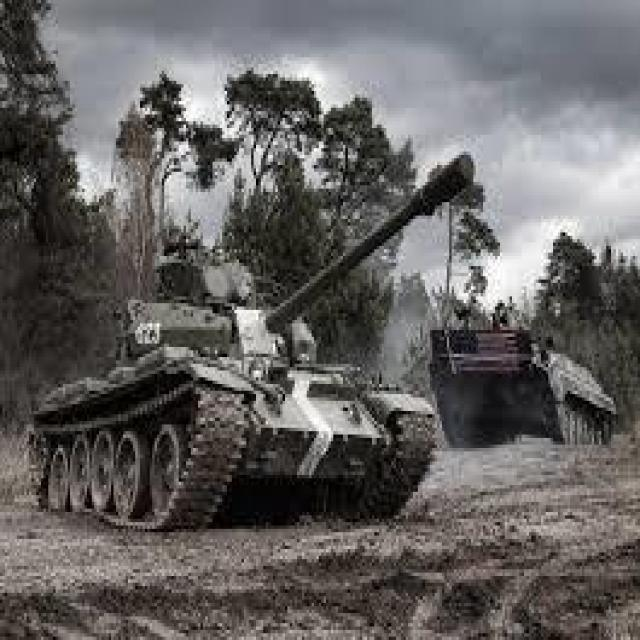Tanks: (32, 148, 437, 556), (380, 224, 620, 497)
